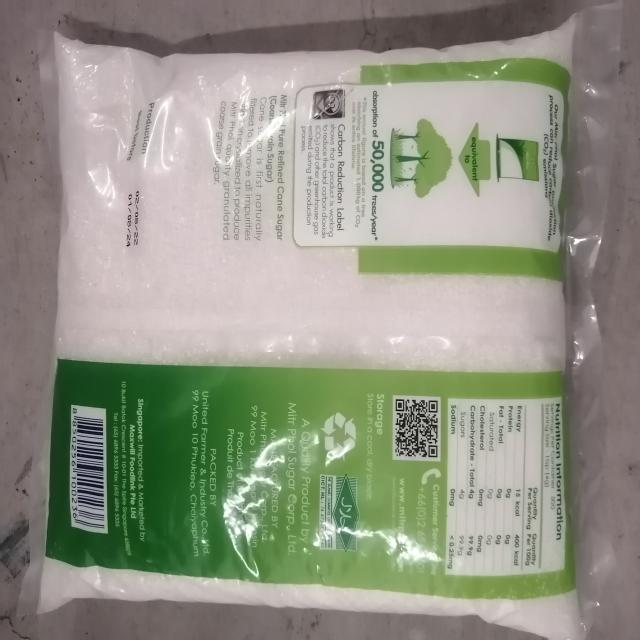object_name: (44, 40, 576, 610)
